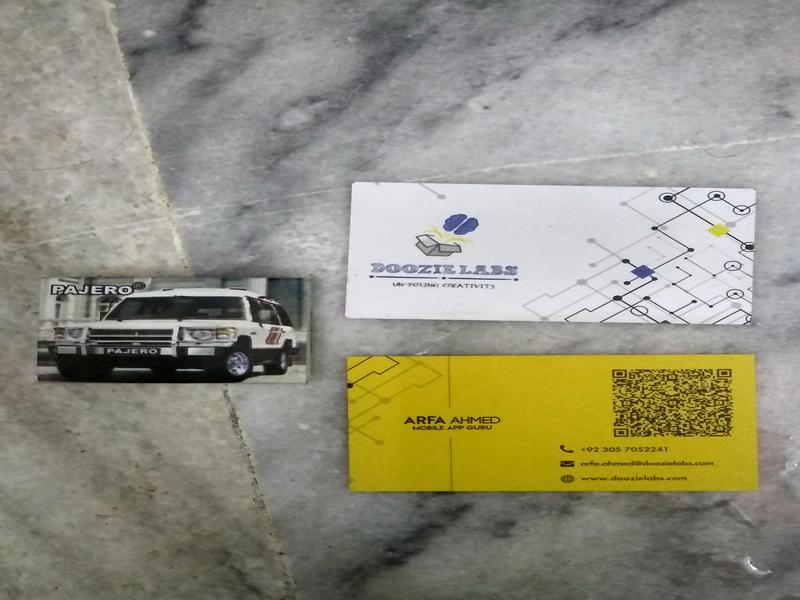back: (346, 178, 760, 330)
front: (346, 354, 763, 494)
pajero: (37, 270, 311, 385)
